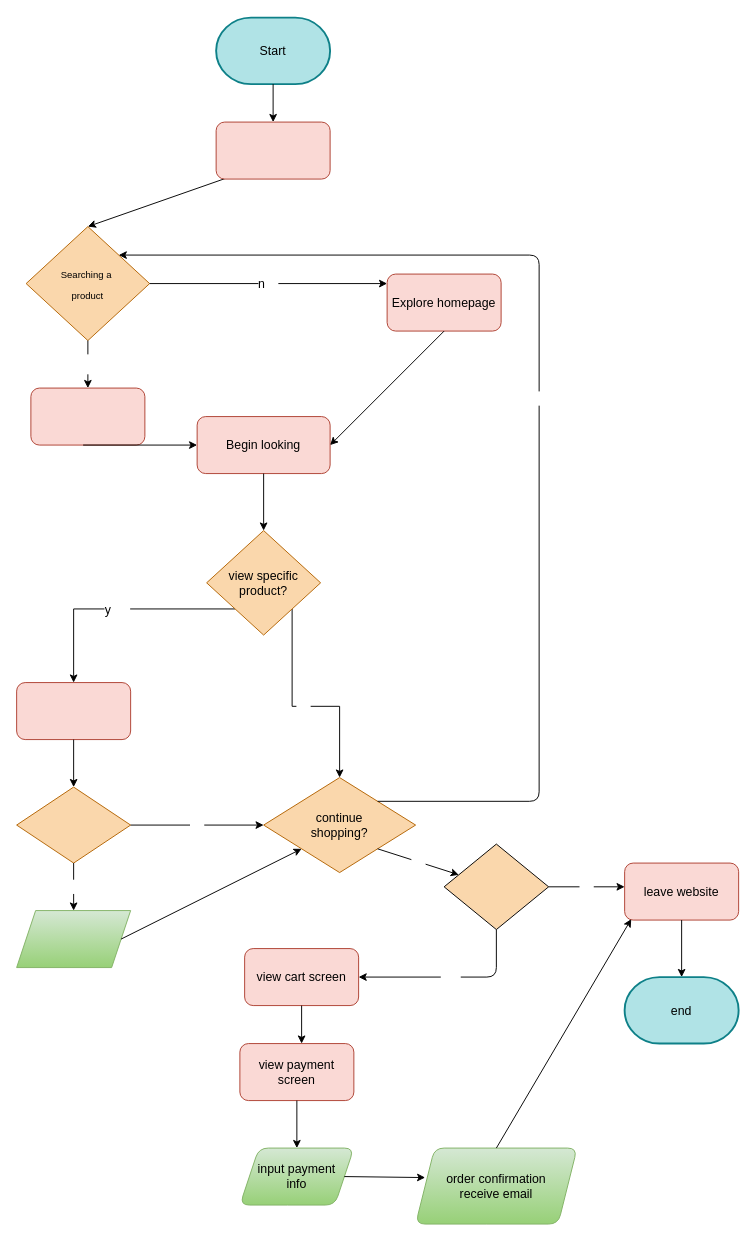
The diagram is 756 pixels wide and 1241 high, and some of its shapes have lost their labels. The shapes that lost their labels are listed below. From the top down, each one's centre as x and y in pixels, then its label:
(272,150): Enter website
(87,416): provide input to website
(73,711): product webpage open
(73,824): add the product?
(496,886): checkout?
(73,939): receive added confirmation
